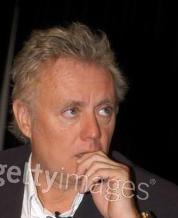face: (59, 101, 112, 158)
